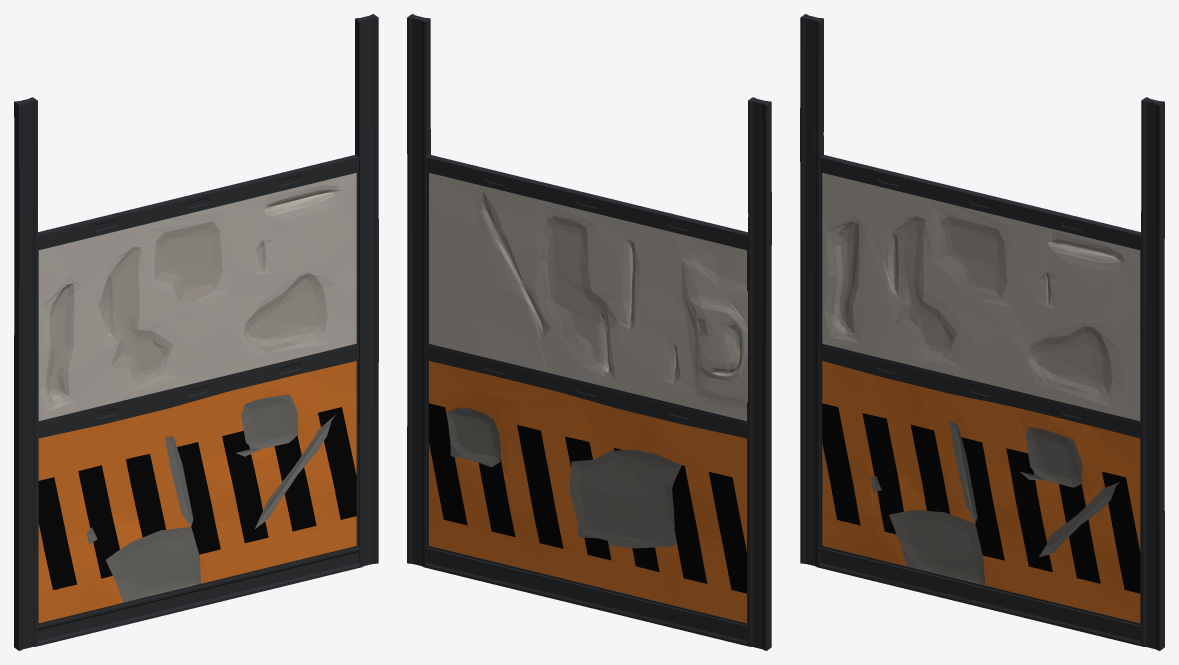
The model's file is SM_Wall_Broken_05.gltf.
3 renders of one model, left to right at view 1: azimuth 30°, elevation 25°; view 2: azimuth 150°, elevation 25°; view 3: azimuth 330°, elevation 25°, orthographic.
Visible parts, largest first — view 1: SM_Wall_Broken_05; view 2: SM_Wall_Broken_05; view 3: SM_Wall_Broken_05.
Part boxes in pixels (<box>): SM_Wall_Broken_05: <box>14,14,378,650</box>; SM_Wall_Broken_05: <box>407,14,771,650</box>; SM_Wall_Broken_05: <box>800,14,1164,650</box>.
Bounding box in the file's own units: 2 × 2.9 × 0.0572.
